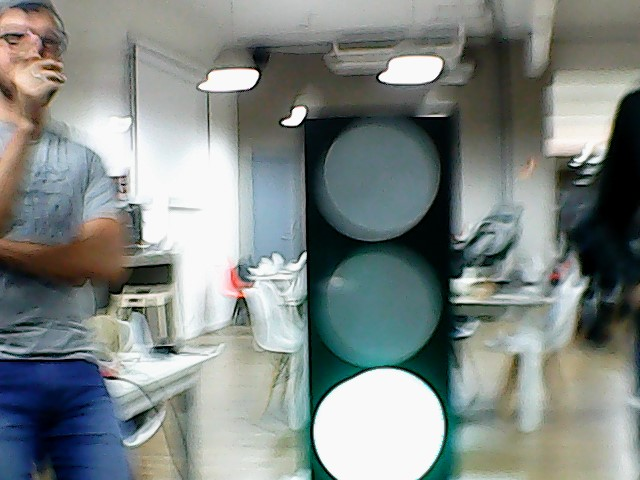verde: (278, 106, 473, 480)
